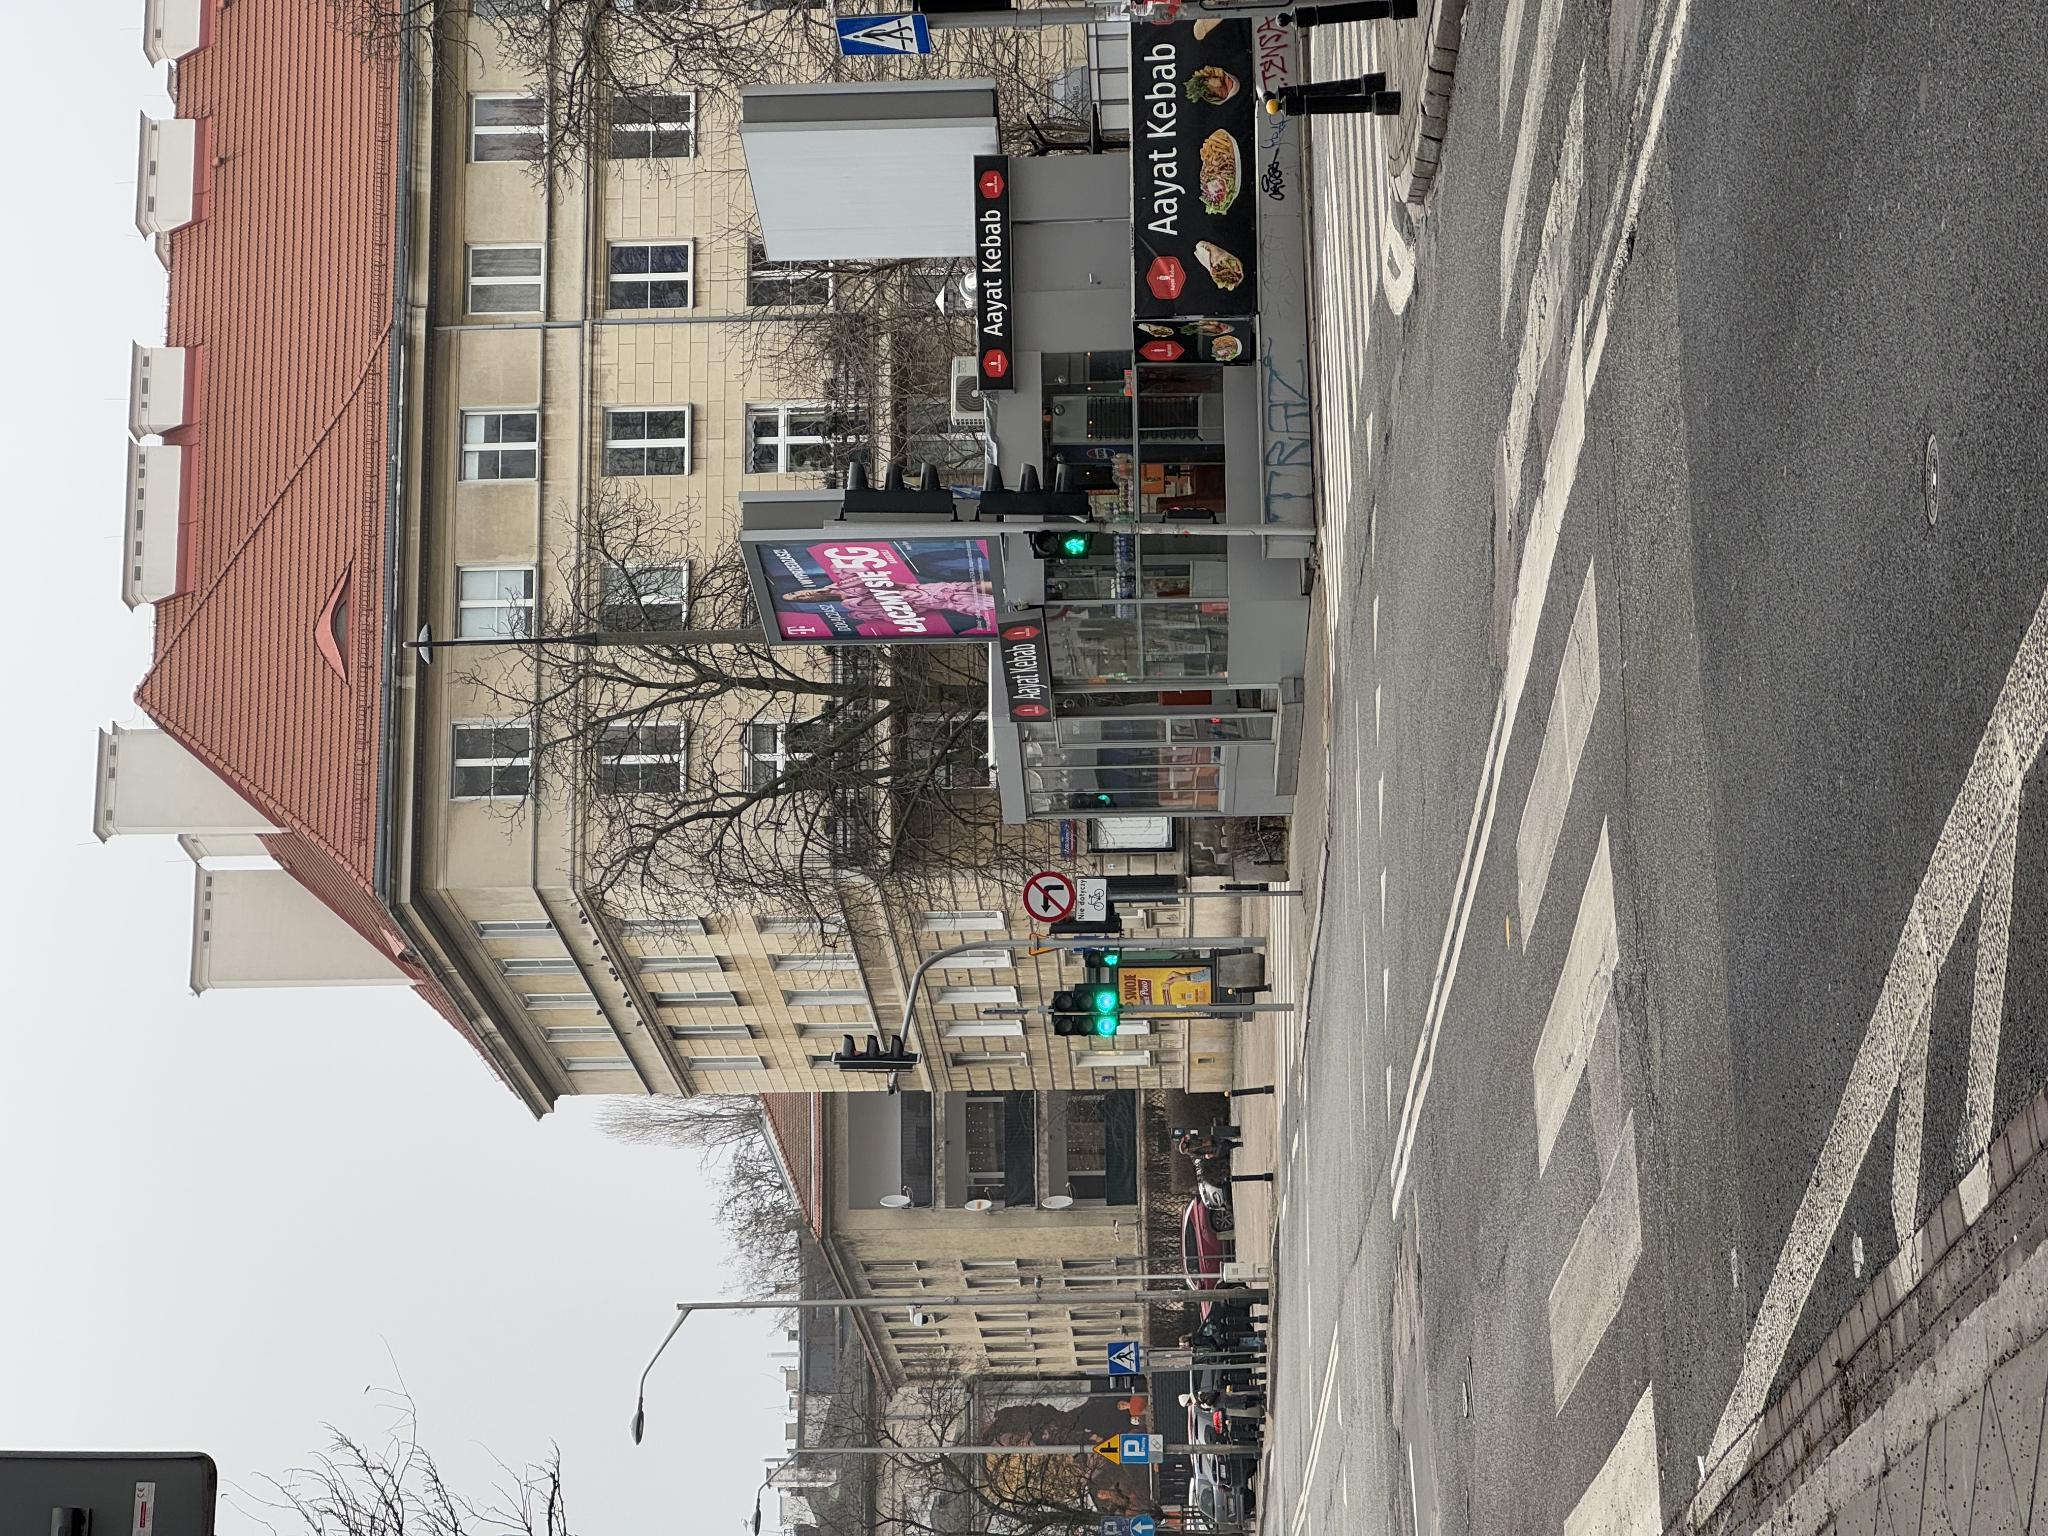information: (1479, 834, 1526, 933), (161, 1107, 195, 1139), (73, 1121, 102, 1149), (0, 1100, 19, 1129)
mandatory: (0, 1131, 23, 1155)
other: (614, 1076, 660, 1107), (73, 1149, 103, 1163)
prohibitory: (613, 1023, 664, 1076)
warning: (71, 1092, 103, 1120)
